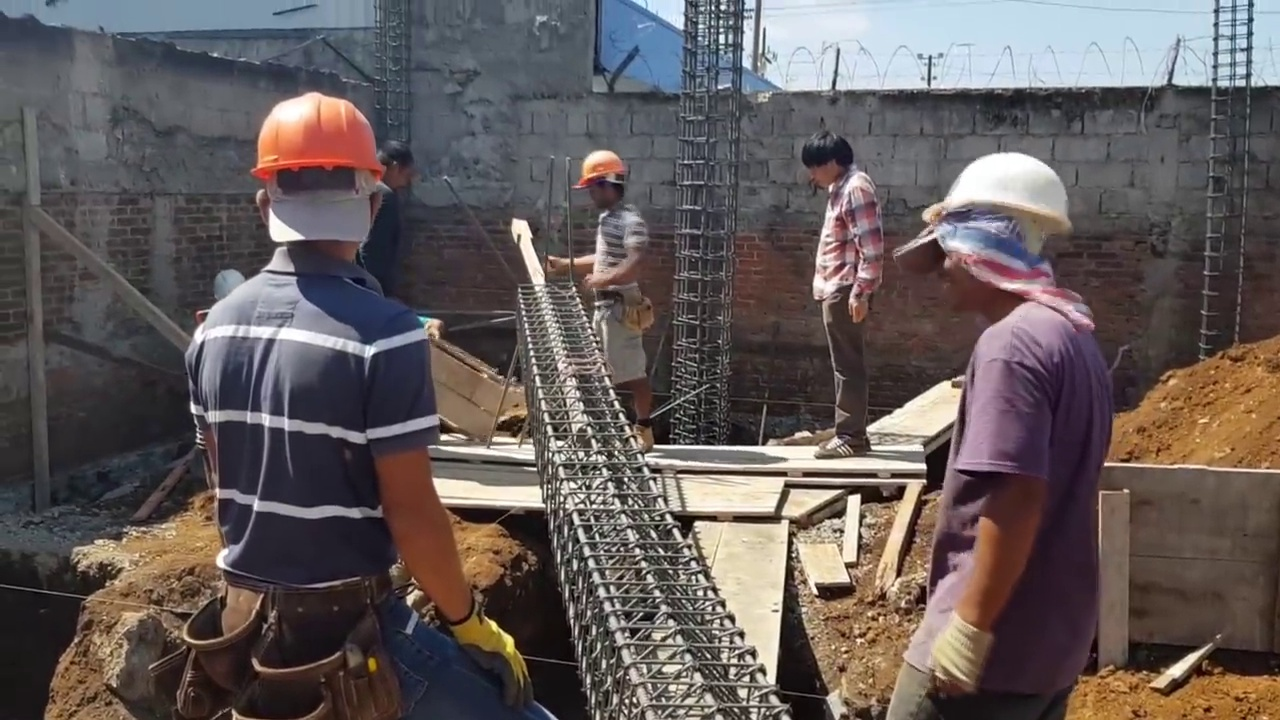helmet: (926, 149, 1085, 247), (242, 90, 383, 188), (577, 146, 629, 191)
helmet-off: (800, 130, 856, 192), (374, 137, 411, 195)
helmet-on: (232, 82, 381, 279), (927, 148, 1082, 309), (577, 149, 629, 218)
person: (184, 82, 527, 709), (905, 151, 1119, 715), (801, 121, 887, 472), (573, 149, 664, 457)
